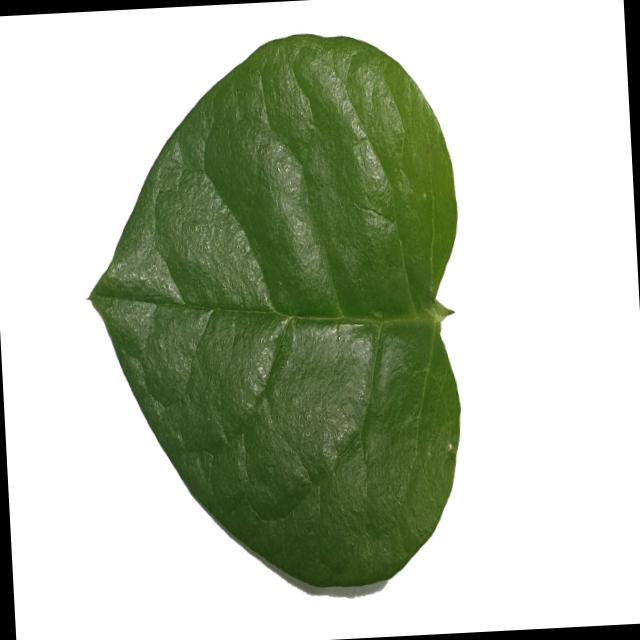Medicinal-Basale: (71, 24, 476, 599)
